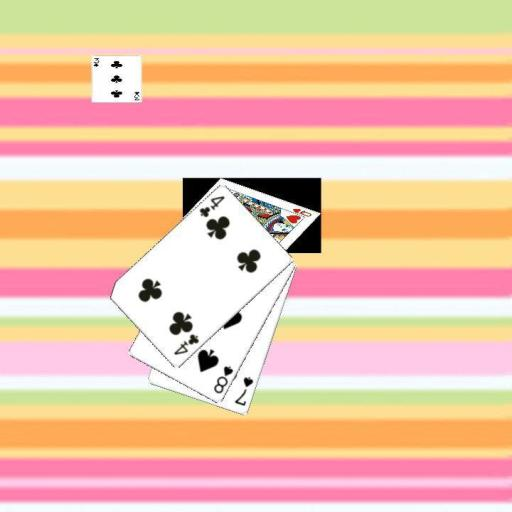card-corner: (170, 331, 200, 357), (196, 193, 226, 219), (210, 363, 234, 395), (232, 374, 254, 408)
